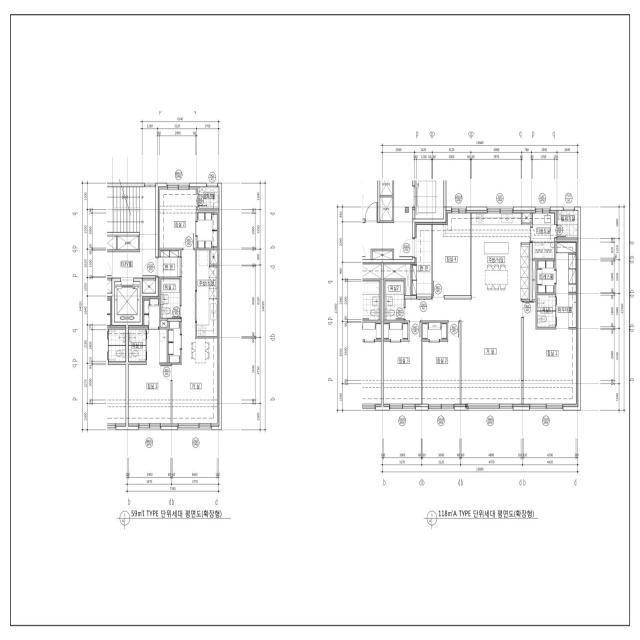space_bedroom: (524, 302, 576, 407), (433, 211, 470, 296), (423, 322, 460, 406), (384, 322, 421, 406), (128, 365, 171, 426), (158, 187, 198, 248)
space_dressroom: (197, 210, 219, 248), (146, 329, 167, 365), (537, 261, 555, 293), (143, 297, 159, 327)
space_elevator: (415, 180, 443, 219), (114, 282, 140, 322)
space_elevator_hall: (107, 187, 156, 278), (362, 180, 415, 259)
space_front: (412, 224, 432, 297), (158, 250, 180, 277)
space_kitchen: (472, 210, 531, 299), (197, 250, 219, 336)
space_living_room: (406, 299, 522, 407), (172, 250, 219, 426)
space_other: (556, 242, 576, 327), (533, 211, 554, 258), (384, 265, 410, 295), (168, 321, 180, 363), (380, 197, 393, 221), (118, 236, 138, 250), (143, 280, 156, 293), (372, 251, 393, 259), (380, 181, 392, 195), (532, 261, 536, 299), (107, 236, 116, 250), (210, 250, 219, 264), (522, 213, 531, 223), (161, 320, 167, 327)
space_outdoor_room: (558, 210, 578, 237), (199, 187, 219, 208)
space_staircase: (107, 187, 142, 232)
space_toilet: (385, 280, 404, 320), (161, 279, 180, 318), (537, 295, 556, 327), (129, 329, 146, 345), (129, 346, 146, 362)
